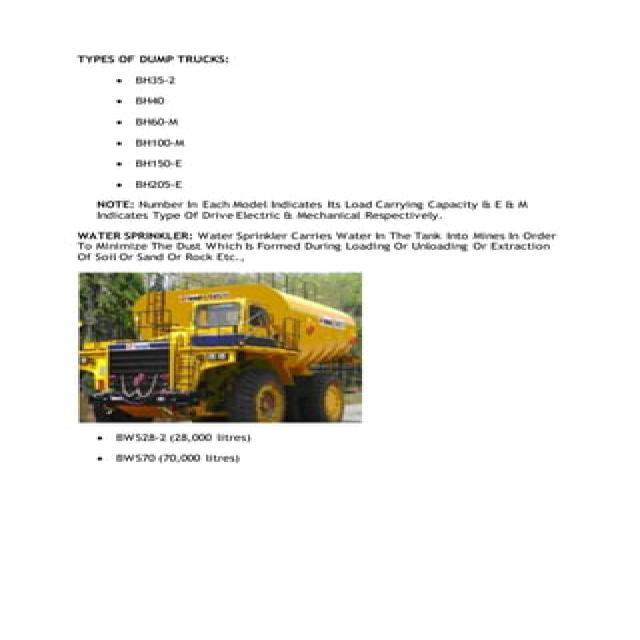dump_truck: (84, 280, 362, 422)
